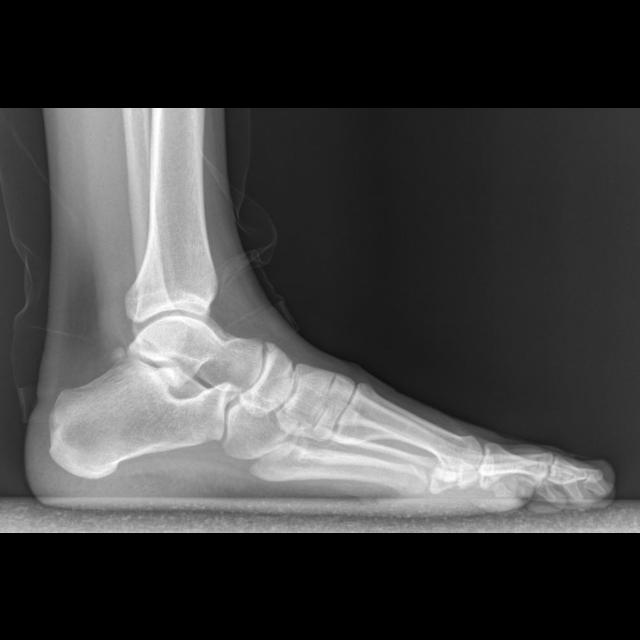a: (49, 358, 239, 479)
b: (242, 340, 294, 417)
c: (335, 382, 485, 486)
